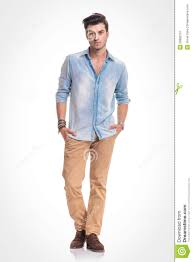standing: (48, 9, 136, 256)
